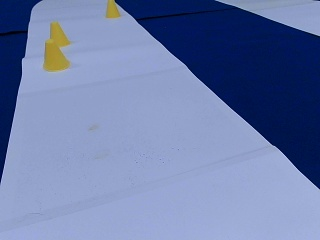cone: (41, 39, 69, 70), (49, 22, 69, 46), (105, 0, 119, 17)
